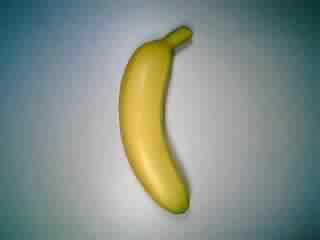banana: (115, 24, 200, 214)
